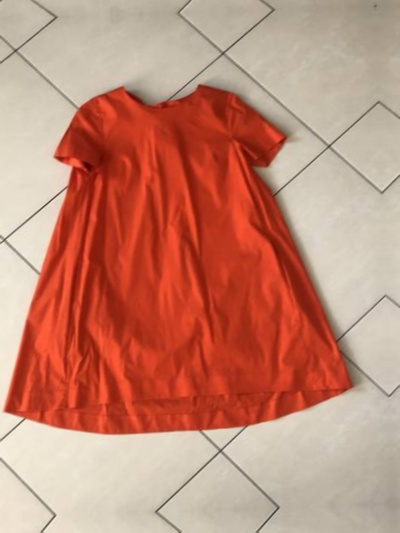Dress: (0, 12, 358, 457), (0, 0, 342, 15), (394, 0, 400, 0)
